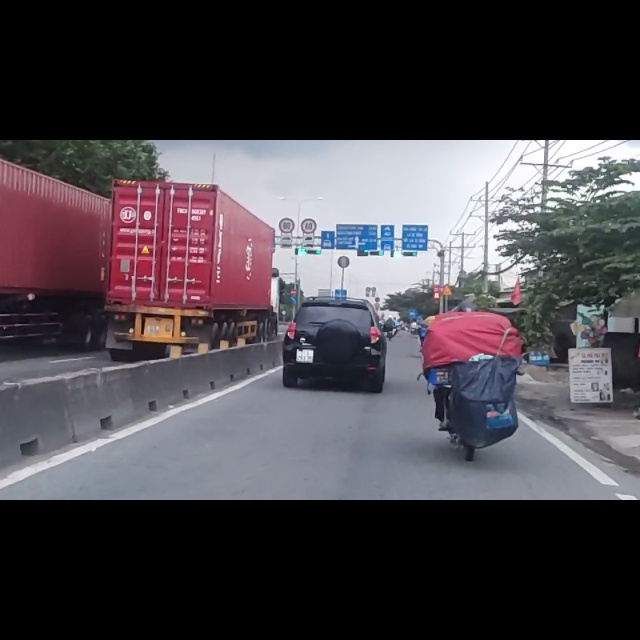bien_cam: (300, 137, 318, 167), (279, 139, 295, 166), (290, 264, 297, 277), (290, 277, 297, 289)
